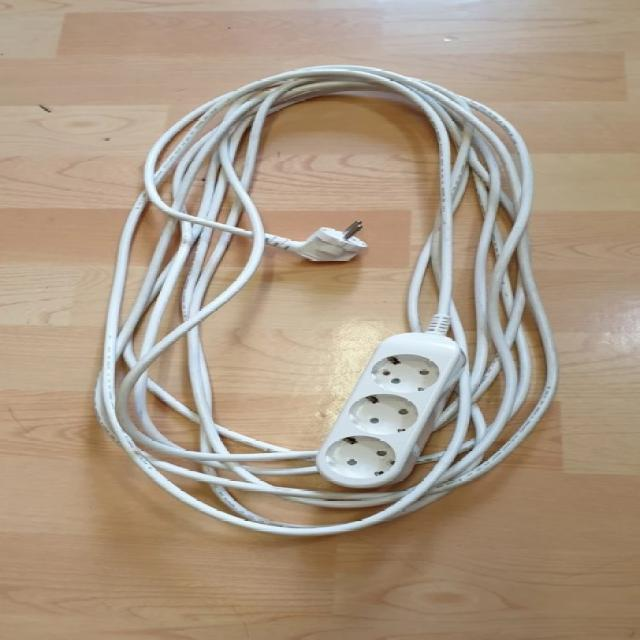typeb: (294, 312, 498, 516)
